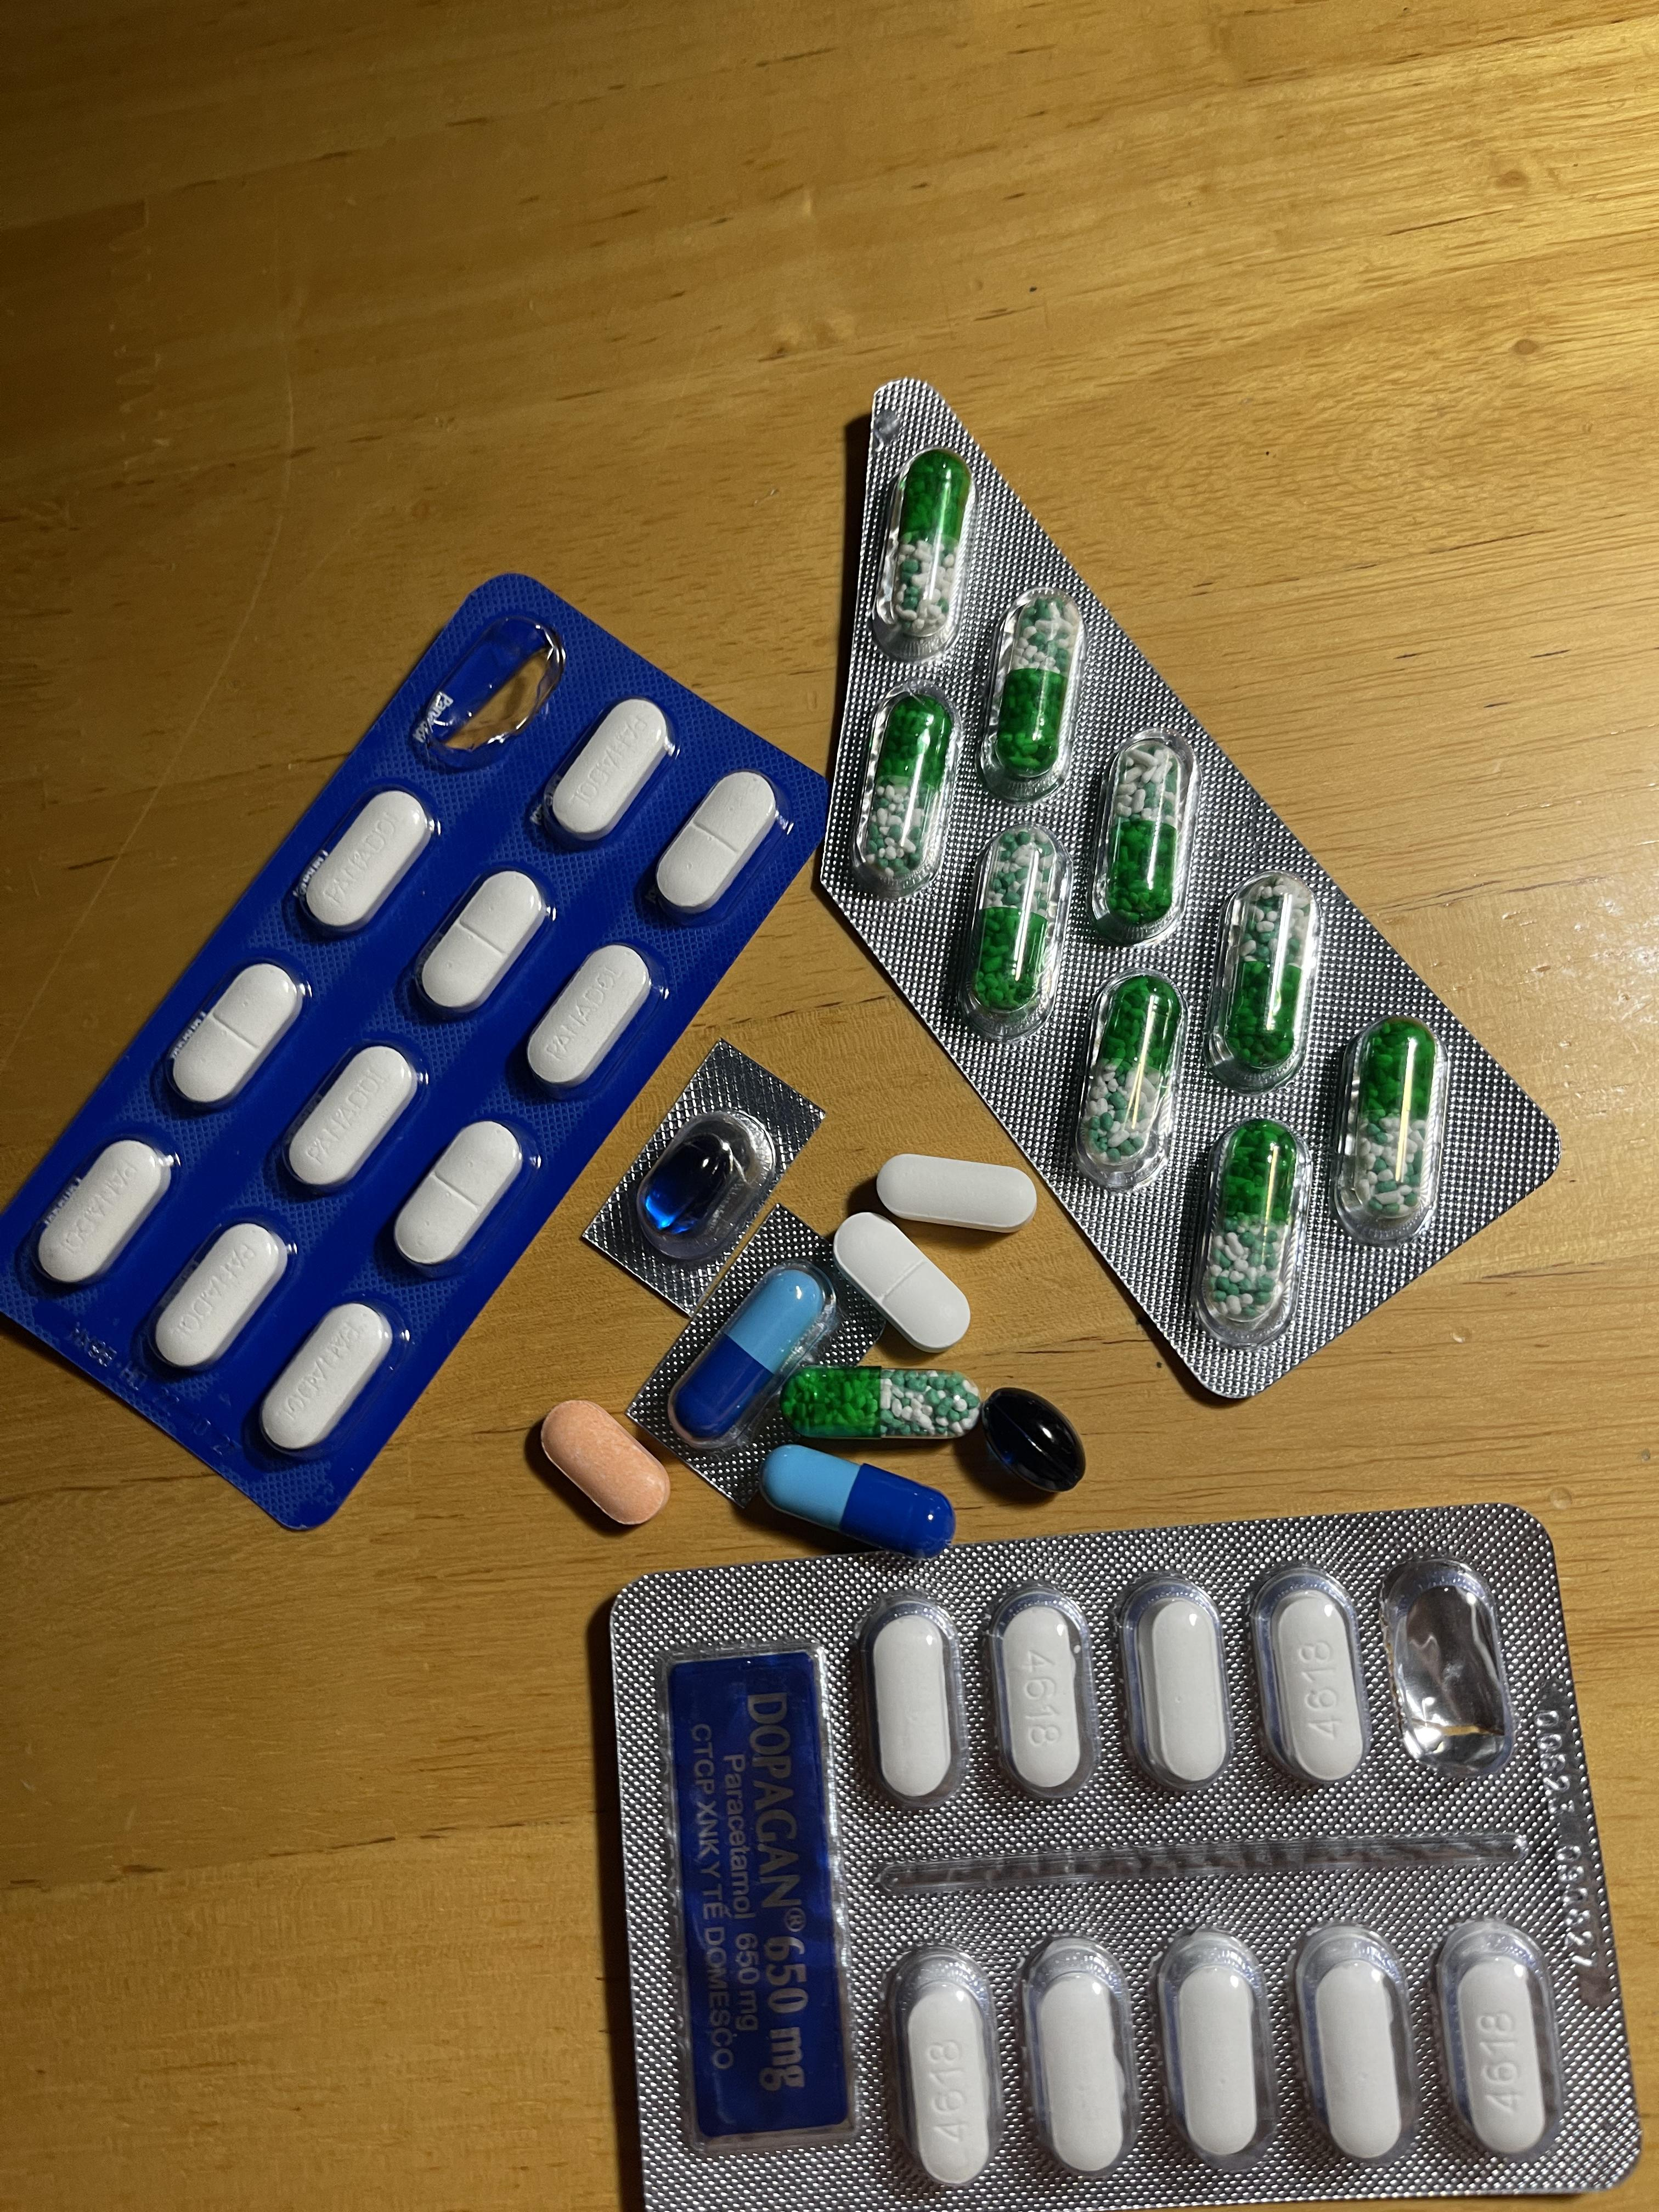Lincomyxin_500mg: (977, 1385, 1086, 1491), (641, 1130, 746, 1235)
Loratadine_10mg: (539, 1401, 676, 1526)
Paracetamol_350mg: (151, 1220, 295, 1375), (258, 1299, 397, 1455), (283, 1037, 422, 1190), (295, 788, 434, 940), (36, 1137, 173, 1289), (412, 870, 547, 1021), (527, 944, 657, 1099), (541, 697, 673, 850), (391, 1119, 526, 1268), (173, 961, 307, 1111), (832, 1212, 968, 1357), (652, 768, 780, 919)
Paracetamol_500mg: (1434, 1915, 1569, 2164), (1289, 1920, 1420, 2165), (1155, 1927, 1275, 2174), (884, 1945, 1003, 2186), (1248, 1561, 1372, 1791), (1020, 1932, 1136, 2177), (984, 1582, 1096, 1797), (1141, 1594, 1224, 1784), (872, 1616, 952, 1799), (876, 1153, 1039, 1234)
Paracetamol_650mg: (1335, 1018, 1450, 1242), (1192, 1120, 1304, 1347), (952, 828, 1066, 1036), (1070, 969, 1179, 1183), (1205, 876, 1312, 1086), (848, 682, 959, 885), (974, 591, 1083, 794), (1087, 736, 1189, 947), (871, 449, 974, 657), (786, 1365, 979, 1441)
pill: (662, 1257, 825, 1445), (764, 1447, 949, 1553)
